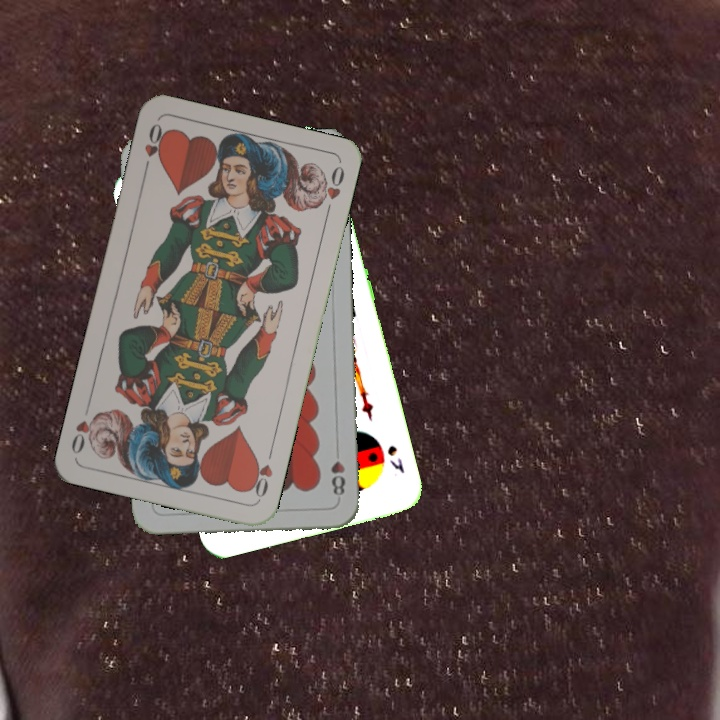H8: (327, 443, 348, 502)
HO: (245, 444, 276, 502), (139, 119, 169, 176)
SK: (383, 441, 407, 476)
